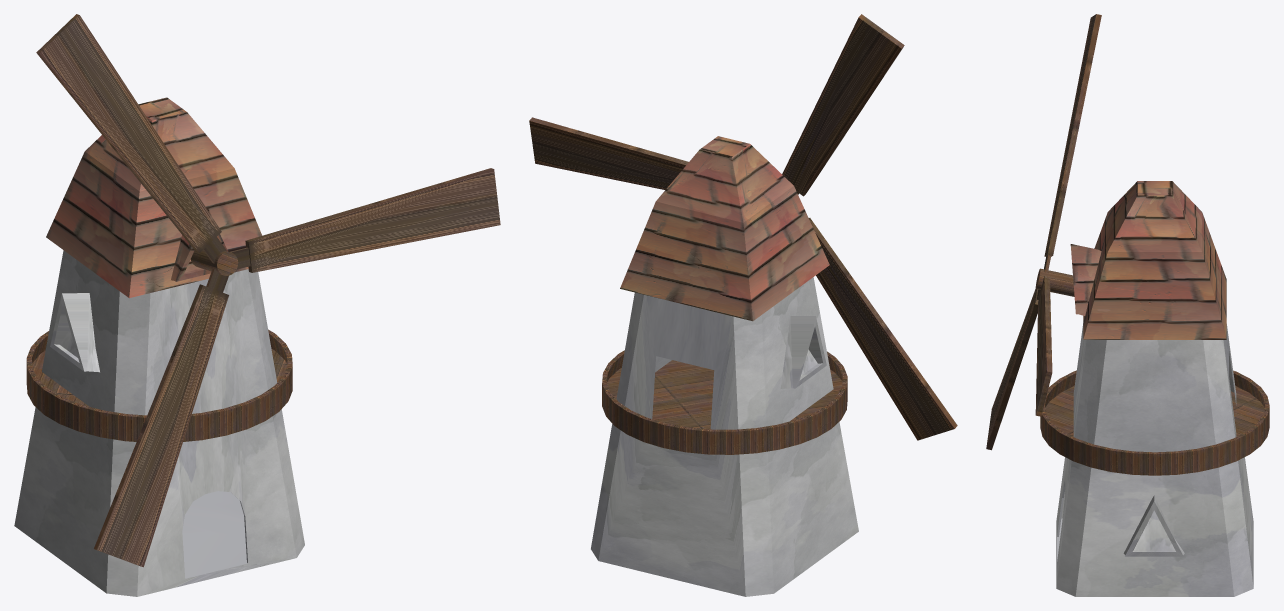
File: winmill.fbx
3 views of the same model, side by side, from view 1: azimuth 30°, elevation 25°; view 2: azimuth 150°, elevation 25°; view 3: azimuth 270°, elevation 25° (orthographic). The views are drawn at different scales.
Parts seen in each view (by area): view 1: floor, fan; view 2: floor, fan; view 3: floor, fan.
Boxes of the visible parts, x1,y1,x2,y2 form: floor: (14, 97, 304, 596); fan: (36, 14, 500, 567); floor: (591, 136, 858, 596); fan: (529, 14, 957, 440); floor: (1040, 181, 1269, 596); fan: (986, 14, 1101, 450).
Bounding box in the file's own units: 1364 × 1741 × 906.
